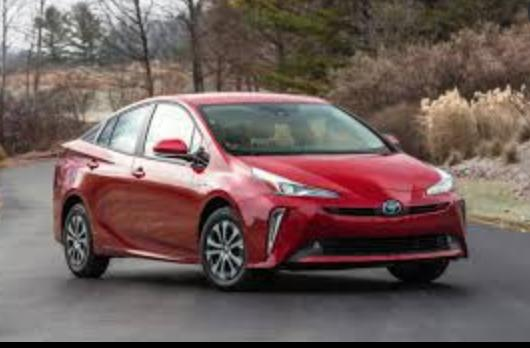car: (52, 88, 479, 290)
